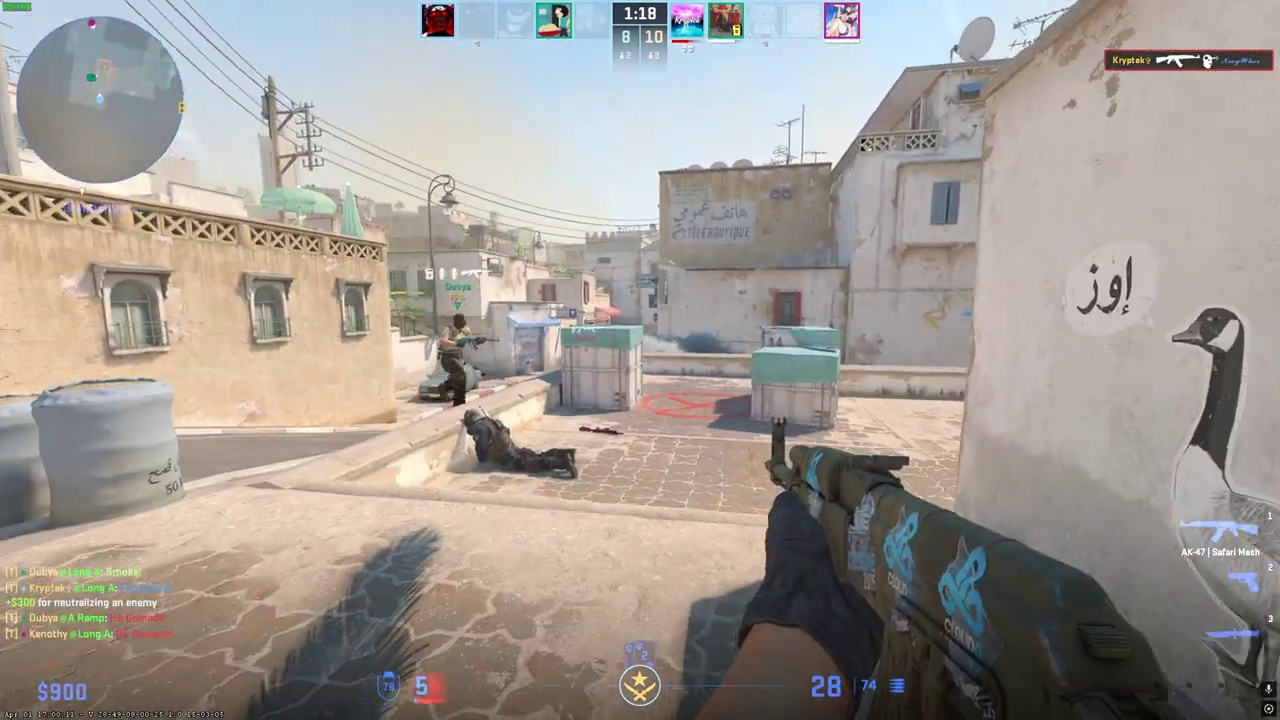Terrorist: (438, 313, 475, 405)
